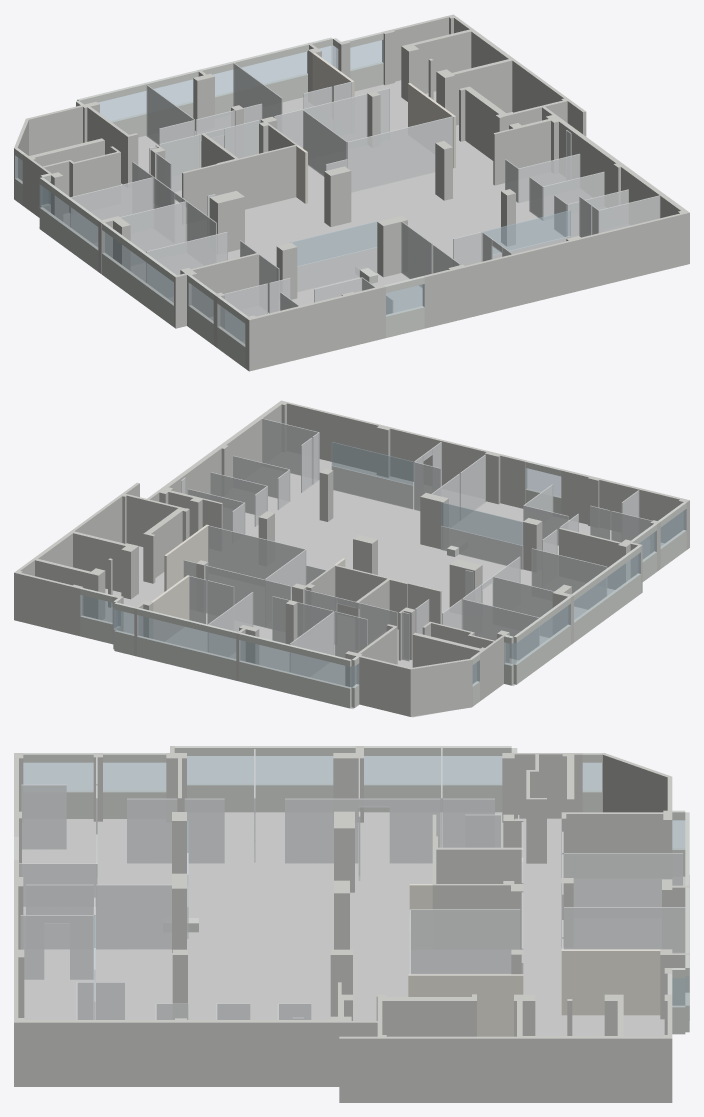
File: 10-mamparas.glb
The picture shows the model from 3 angles, top to bottom: view 1: azimuth 30°, elevation 25°; view 2: azimuth 150°, elevation 25°; view 3: azimuth 270°, elevation 25°; orthographic projection. The views are drawn at different scales.
Visible parts, largest first — view 1: Floor4_10-mamparas_concrete_Blocking, Floor4_10-mamparas_frosted_Blocking, Floor4_10-mamparas_Floor, Floor4_10-mamparas_glass_Blocking, Floor4_10-mamparas_wall_Blocking, Floor4_10-mamparas_partition_Blocking; view 2: Floor4_10-mamparas_concrete_Blocking, Floor4_10-mamparas_frosted_Blocking, Floor4_10-mamparas_Floor, Floor4_10-mamparas_wall_Blocking, Floor4_10-mamparas_glass_Blocking, Floor4_10-mamparas_partition_Blocking; view 3: Floor4_10-mamparas_concrete_Blocking, Floor4_10-mamparas_Floor, Floor4_10-mamparas_frosted_Blocking, Floor4_10-mamparas_wall_Blocking, Floor4_10-mamparas_glass_Blocking, Floor4_10-mamparas_partition_Blocking.
Part boxes in pixels (x1=…): Floor4_10-mamparas_concrete_Blocking: x1=14, y1=14, x2=689, y2=371; Floor4_10-mamparas_frosted_Blocking: x1=70, y1=63, x2=660, y2=340; Floor4_10-mamparas_Floor: x1=39, y1=80, x2=563, y2=343; Floor4_10-mamparas_glass_Blocking: x1=15, y1=40, x2=570, y2=346; Floor4_10-mamparas_wall_Blocking: x1=15, y1=32, x2=424, y2=368; Floor4_10-mamparas_partition_Blocking: x1=296, y1=53, x2=455, y2=203; Floor4_10-mamparas_concrete_Blocking: x1=14, y1=400, x2=689, y2=716; Floor4_10-mamparas_frosted_Blocking: x1=181, y1=418, x2=652, y2=676; Floor4_10-mamparas_Floor: x1=103, y1=459, x2=664, y2=717; Floor4_10-mamparas_wall_Blocking: x1=80, y1=460, x2=686, y2=708; Floor4_10-mamparas_glass_Blocking: x1=80, y1=442, x2=686, y2=688; Floor4_10-mamparas_partition_Blocking: x1=151, y1=524, x2=345, y2=641; Floor4_10-mamparas_concrete_Blocking: x1=14, y1=746, x2=689, y2=1102; Floor4_10-mamparas_Floor: x1=22, y1=812, x2=689, y2=1036; Floor4_10-mamparas_frosted_Blocking: x1=19, y1=748, x2=685, y2=1019; Floor4_10-mamparas_wall_Blocking: x1=14, y1=746, x2=689, y2=1034; Floor4_10-mamparas_glass_Blocking: x1=23, y1=756, x2=689, y2=1007; Floor4_10-mamparas_partition_Blocking: x1=408, y1=884, x2=660, y2=1036.
Bounding box in the file's own units: 23.41 × 2.4 × 22.85.
